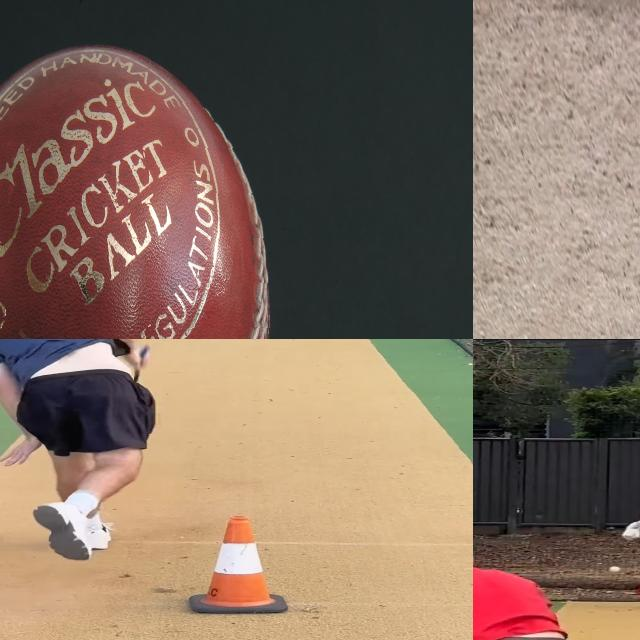Cricket ball: (0, 35, 293, 339), (608, 565, 624, 574)
